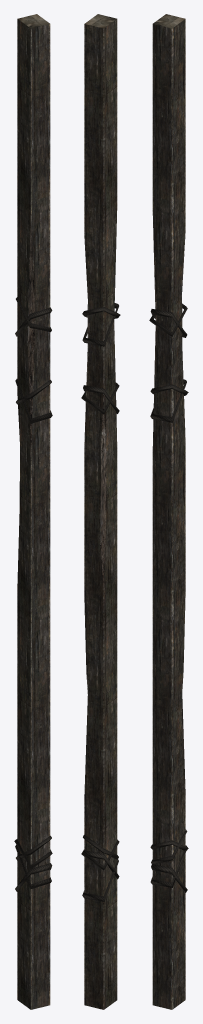
File: Wood_el1.fbx
3 views of the same model, side by side, from view 1: azimuth 30°, elevation 25°; view 2: azimuth 150°, elevation 25°; view 3: azimuth 330°, elevation 25° (orthographic).
Parts seen in each view (by area): view 1: polySurface93; view 2: polySurface93; view 3: polySurface93.
Part boxes in pixels (x1,y1,x2,y2): polySurface93: (14, 14, 52, 1009); polySurface93: (81, 14, 120, 1009); polySurface93: (149, 14, 188, 1009).
Size of the model in its own units: 0.2368 by 9.34 by 0.2722.
